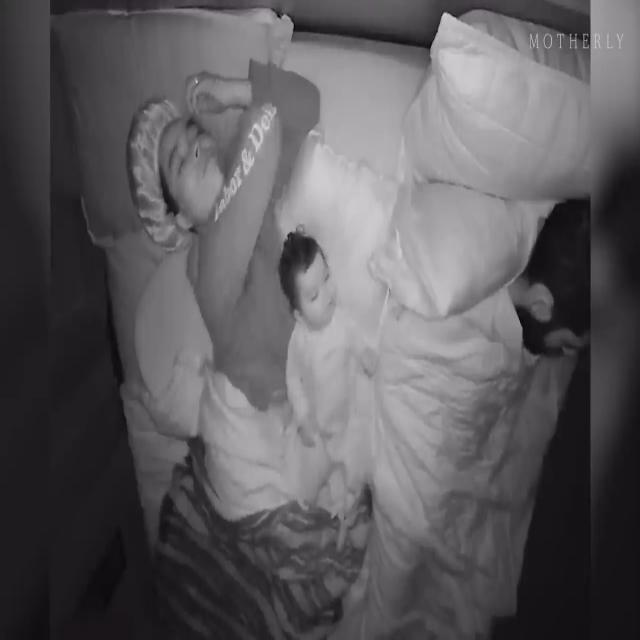baby: (277, 236, 375, 512)
